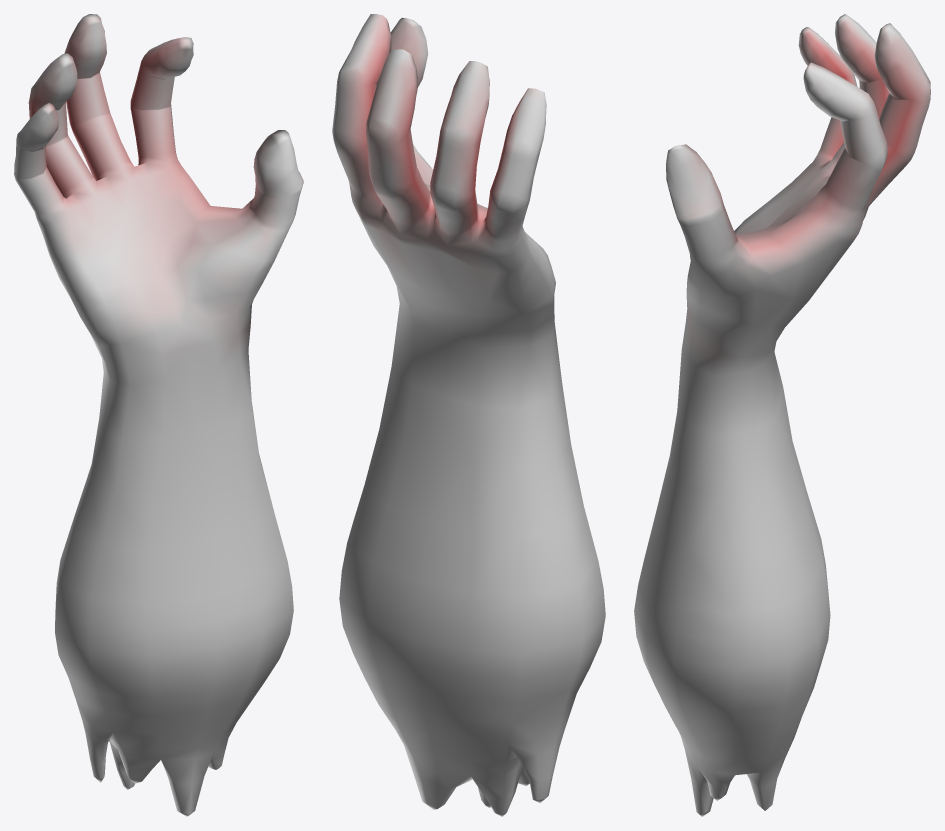
The model's file is SM_WEP_D72NJ2_HND02_R.glb.
3 renders of one model, left to right at view 1: azimuth 30°, elevation 25°; view 2: azimuth 150°, elevation 25°; view 3: azimuth 270°, elevation 25°, orthographic. The views are drawn at different scales.
Parts seen in each view (by area): view 1: SM_WEP_D72NJ2_HND02_R; view 2: SM_WEP_D72NJ2_HND02_R; view 3: SM_WEP_D72NJ2_HND02_R.
Part boxes in pixels (x1,y1,x2,y2): SM_WEP_D72NJ2_HND02_R: [14, 14, 303, 816]; SM_WEP_D72NJ2_HND02_R: [332, 14, 605, 816]; SM_WEP_D72NJ2_HND02_R: [634, 14, 930, 816].
Size of the model in its own units: 0.3034 by 0.978 by 0.3343.
